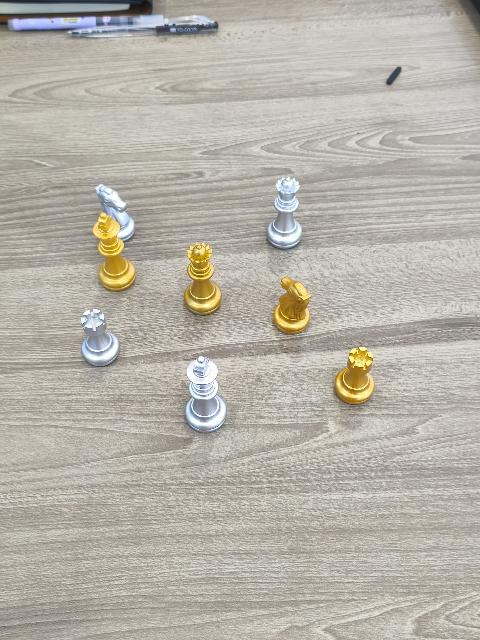black_king: (94, 217, 136, 292)
black_knight: (273, 275, 312, 336)
black_queen: (182, 244, 224, 317)
black_rook: (333, 347, 378, 407)
white_king: (182, 355, 229, 436)
white_knight: (96, 183, 128, 214)
white_queen: (265, 175, 304, 251)
white_rook: (80, 307, 123, 365)
